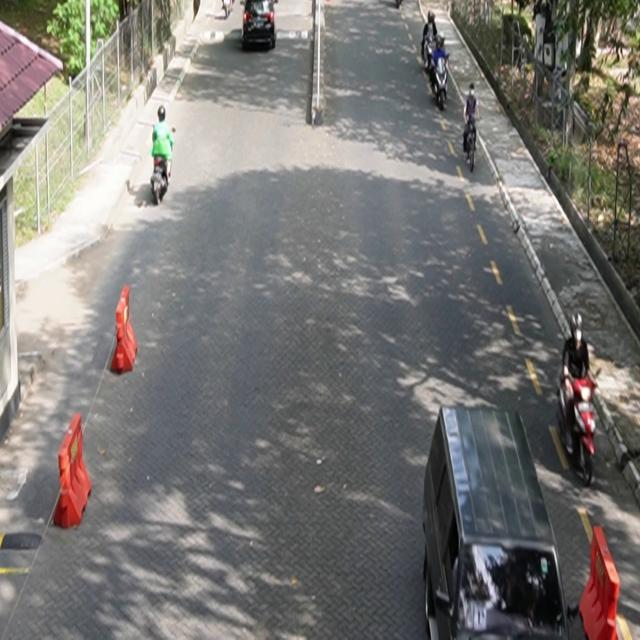car: (242, 1, 278, 51)
